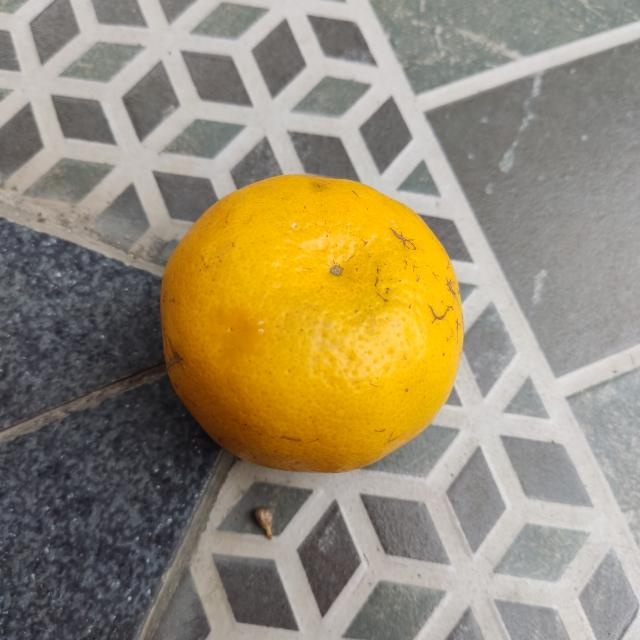agrume: (156, 168, 468, 480)
